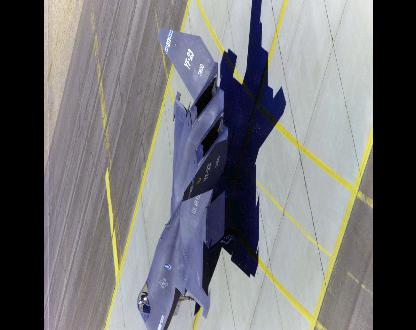US2: (135, 28, 240, 329)
